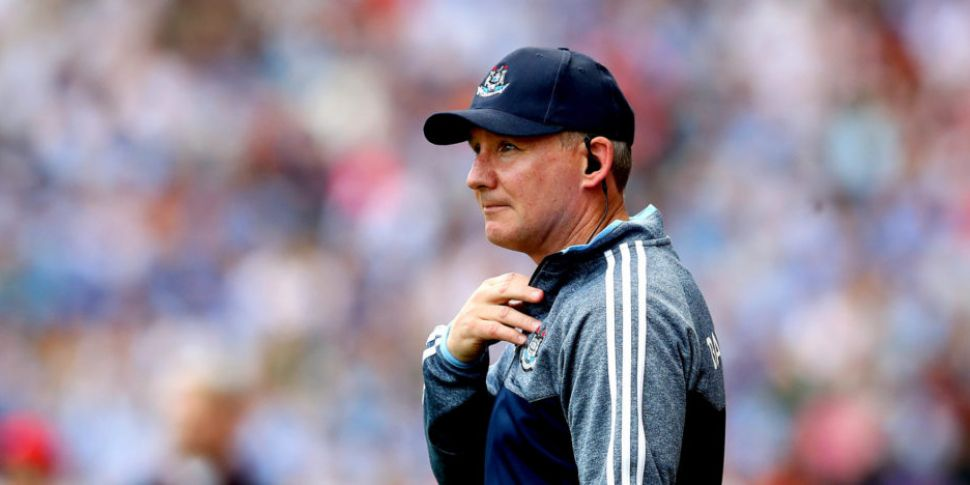player: (439, 33, 743, 469)
